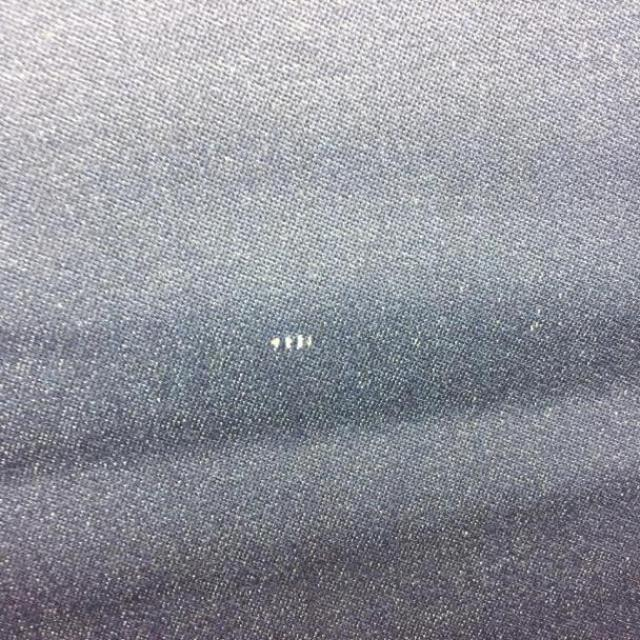Knot: (269, 335, 314, 351)
